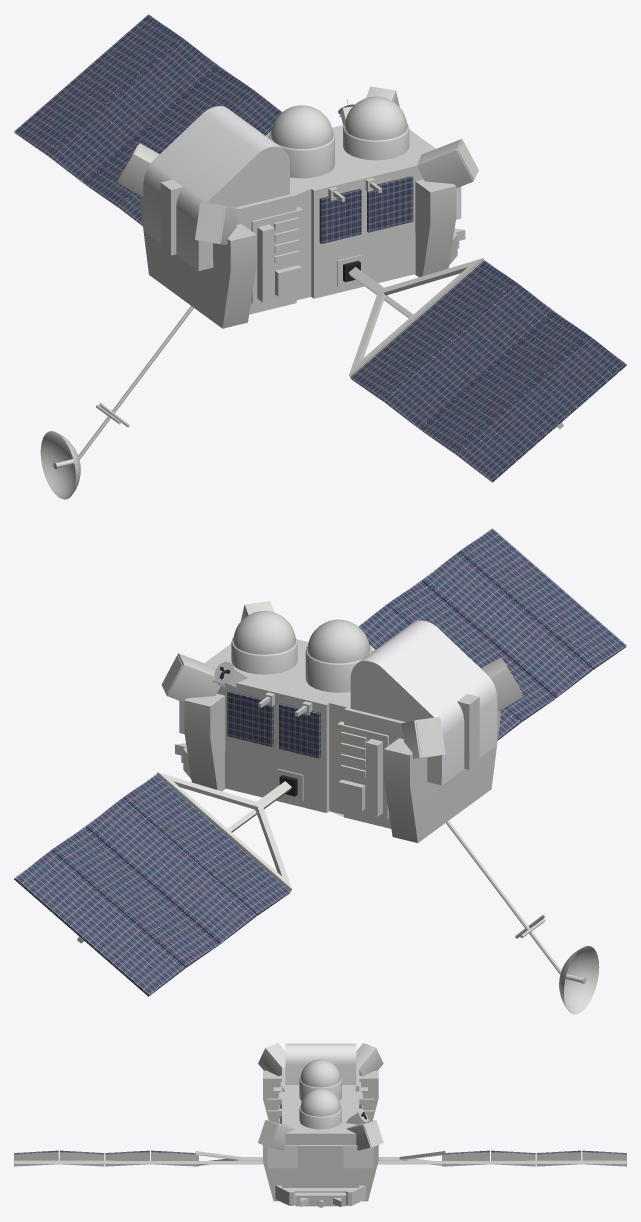
The model's file is compton.glb.
3 renders of one model, top to bottom at view 1: azimuth 30°, elevation 25°; view 2: azimuth 150°, elevation 25°; view 3: azimuth 270°, elevation 25°, orthographic. The views are drawn at different scales.
Visible parts, largest first — view 1: <LWODefault>; view 2: <LWODefault>; view 3: <LWODefault>.
Part boxes in pixels (box(x1,y1,x2,y2)): <LWODefault>: box(14, 14, 626, 499); <LWODefault>: box(14, 528, 626, 1014); <LWODefault>: box(14, 1043, 626, 1207).
Bounding box in the file's own units: 10.16 × 8.12 × 21.3.
Materials: 5 (1 with a texture image).
